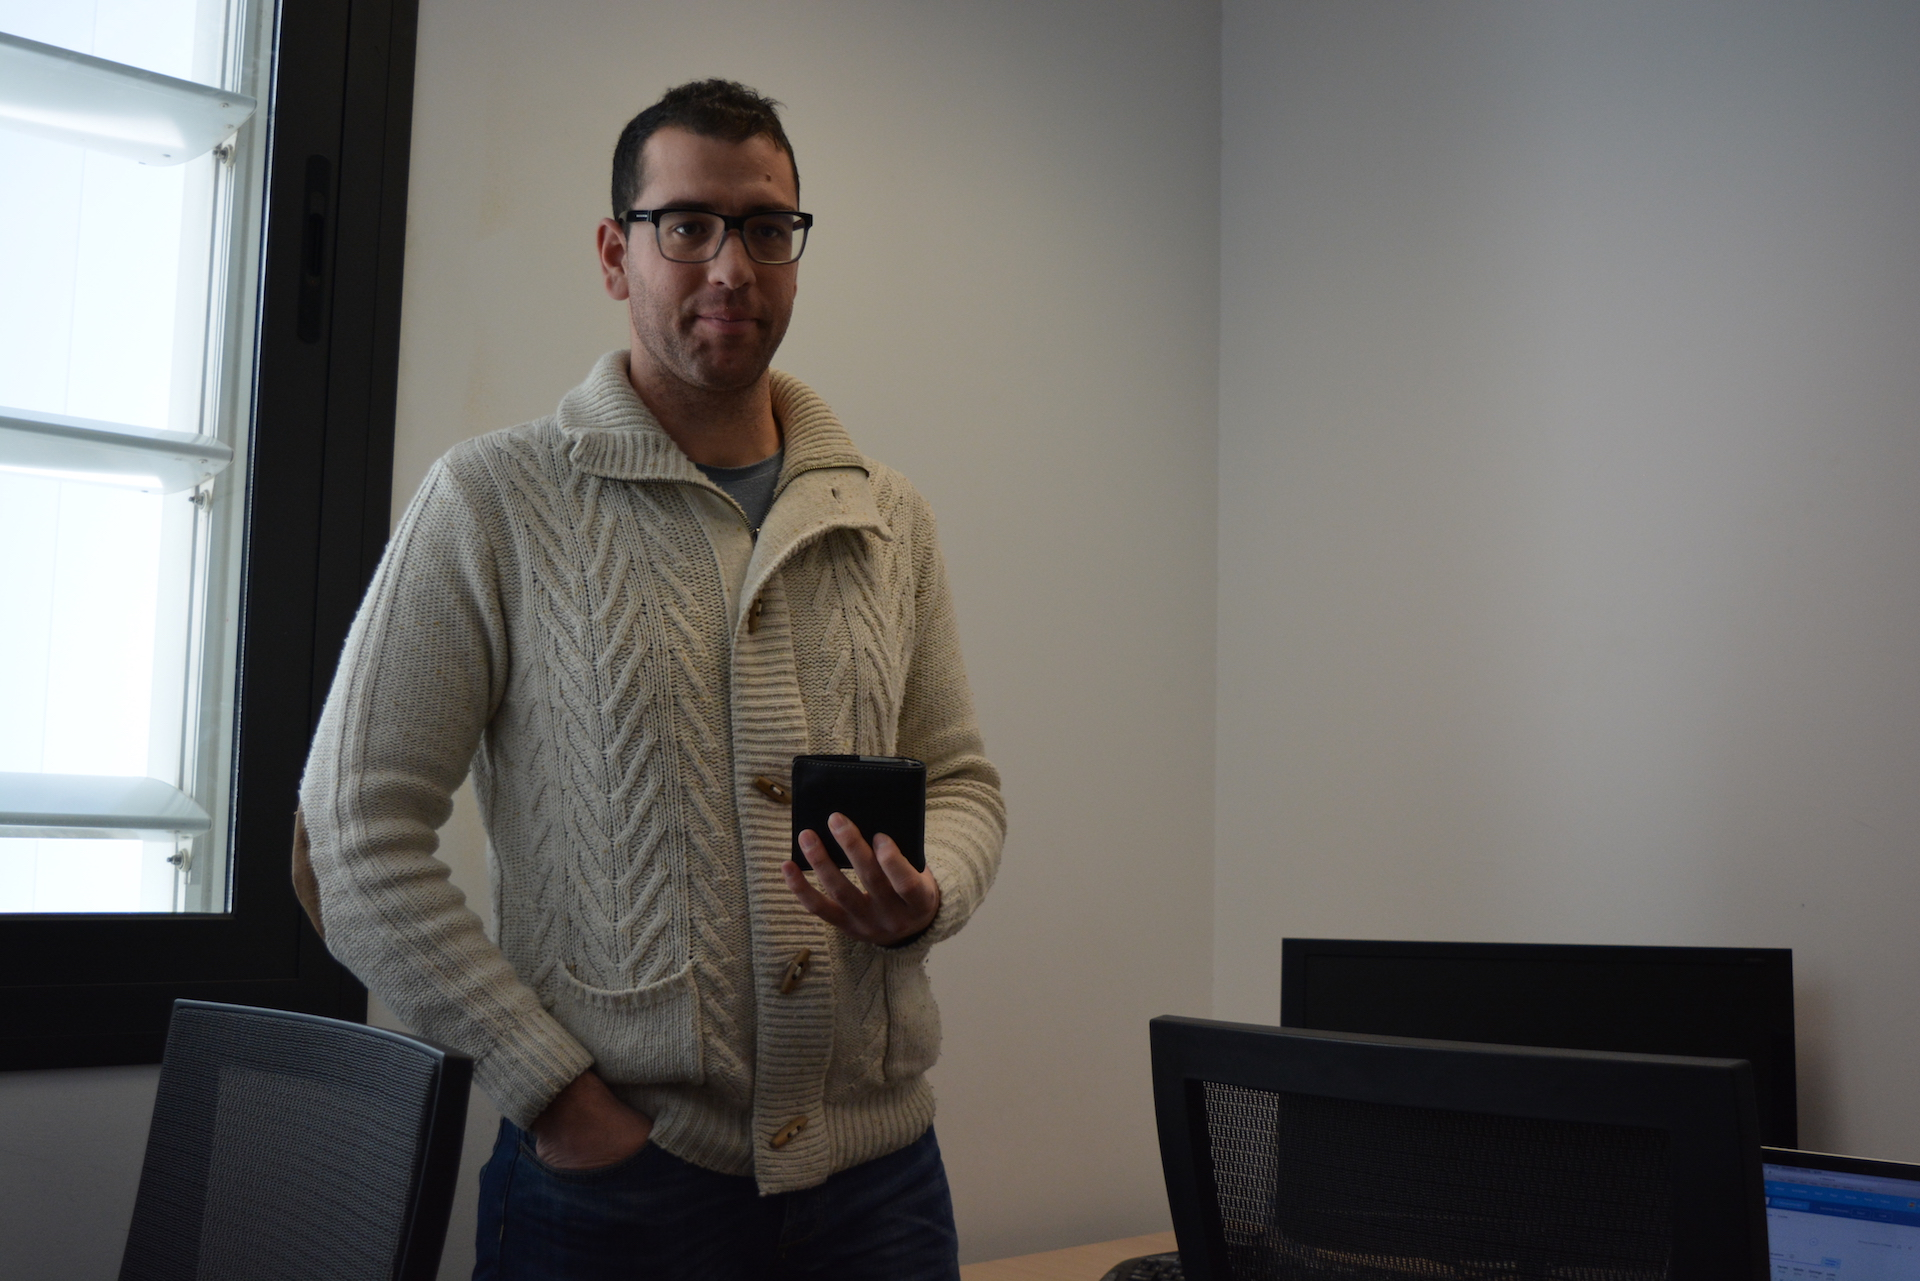monedero: (791, 753, 929, 876)
